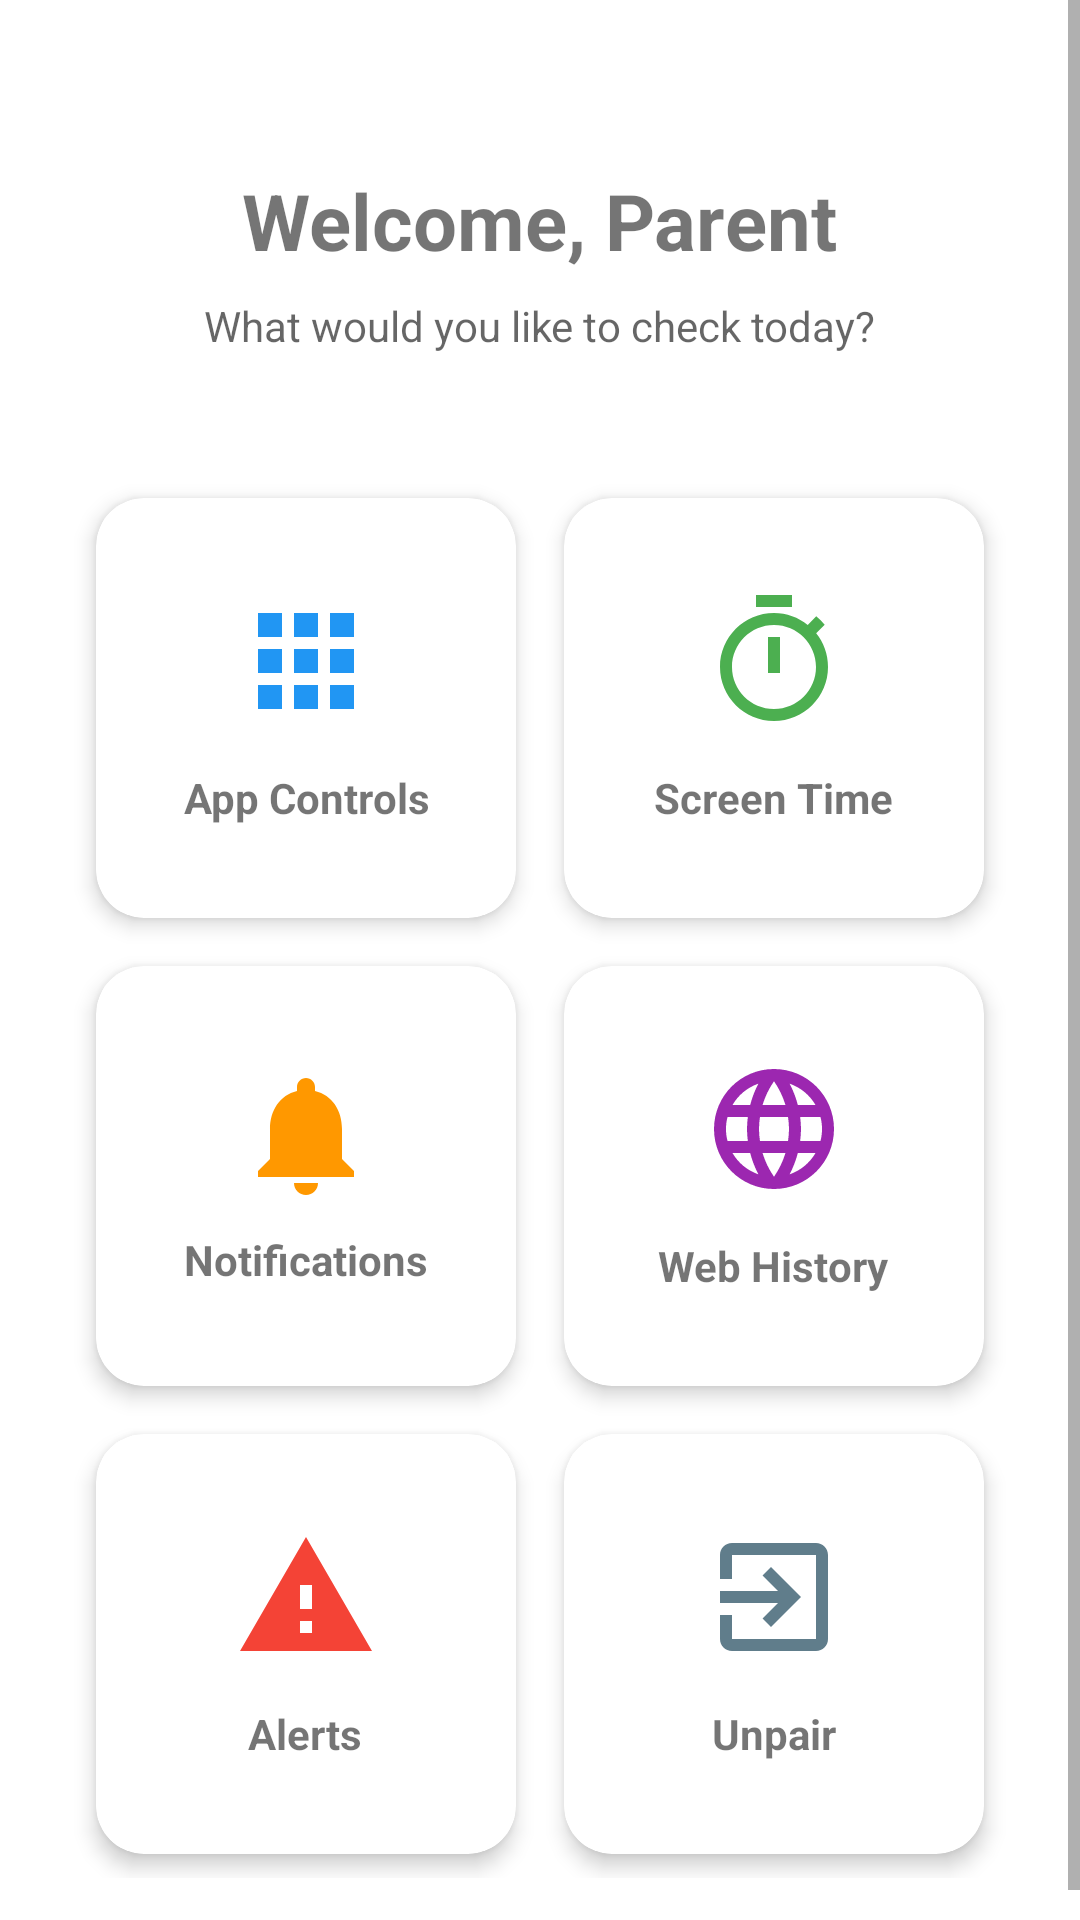

Where to tap for icons on this 1080w x 1920h app screen, as [x,y]:
apps: [306,661]
globe: [774,1129]
timer: [774,658]
warning: [306,1594]
